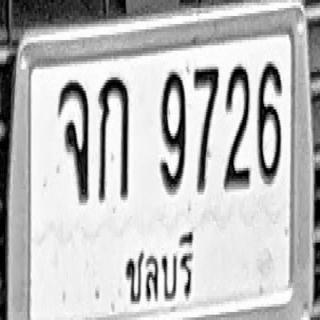A01: (98, 75, 128, 200)
A08: (57, 79, 89, 201)
N02: (223, 63, 250, 188)
N06: (257, 59, 281, 184)
N07: (193, 64, 219, 192)
N09: (160, 69, 185, 192)
P13: (122, 225, 197, 312)
